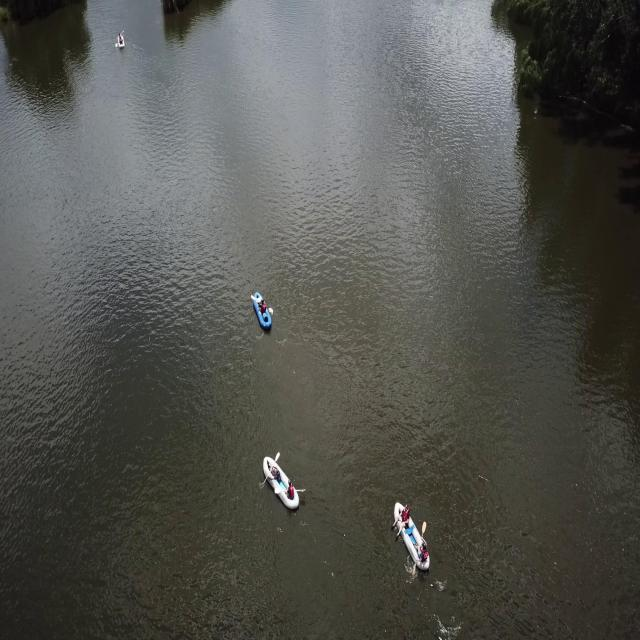kayak: (390, 504, 436, 580), (261, 451, 305, 520), (253, 288, 274, 337), (114, 29, 128, 57)
